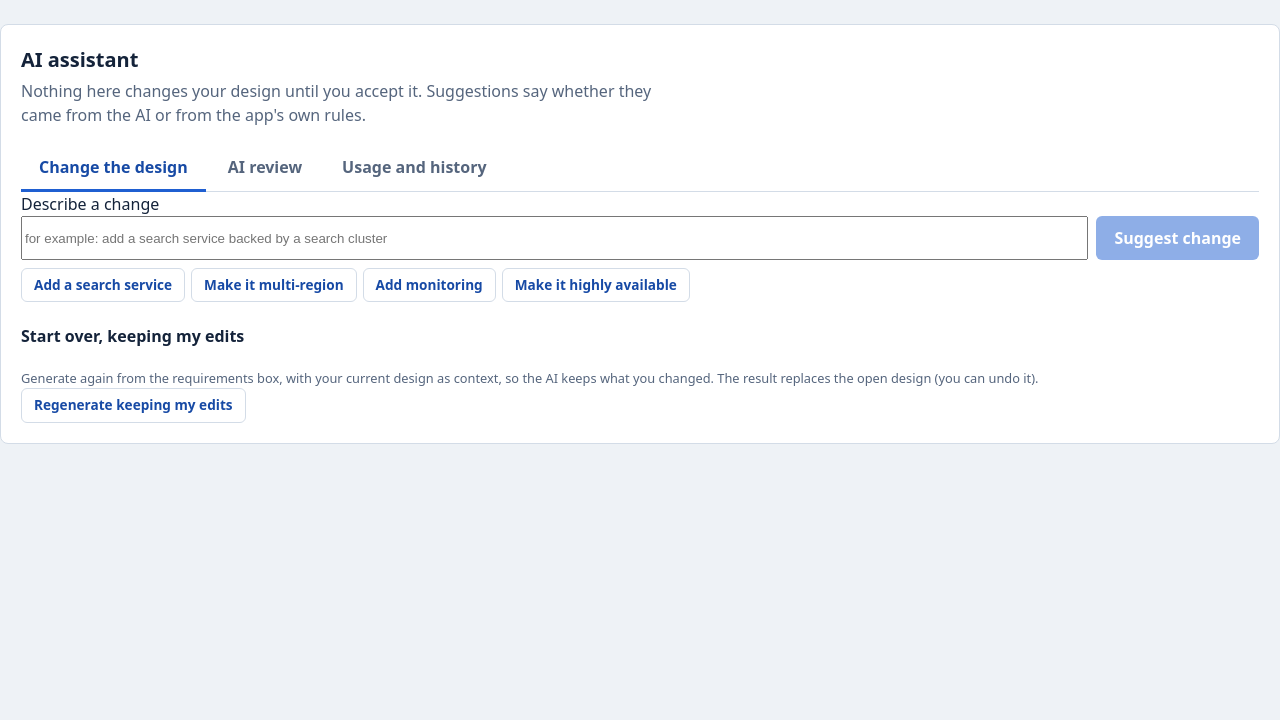
Test case: AI assistant: change the design › says so when nothing can be changed, and labels rule-based answers
Type "bake a cake" into the field labelled "Describe a change" at point(555, 238), box [21, 216, 1088, 260]
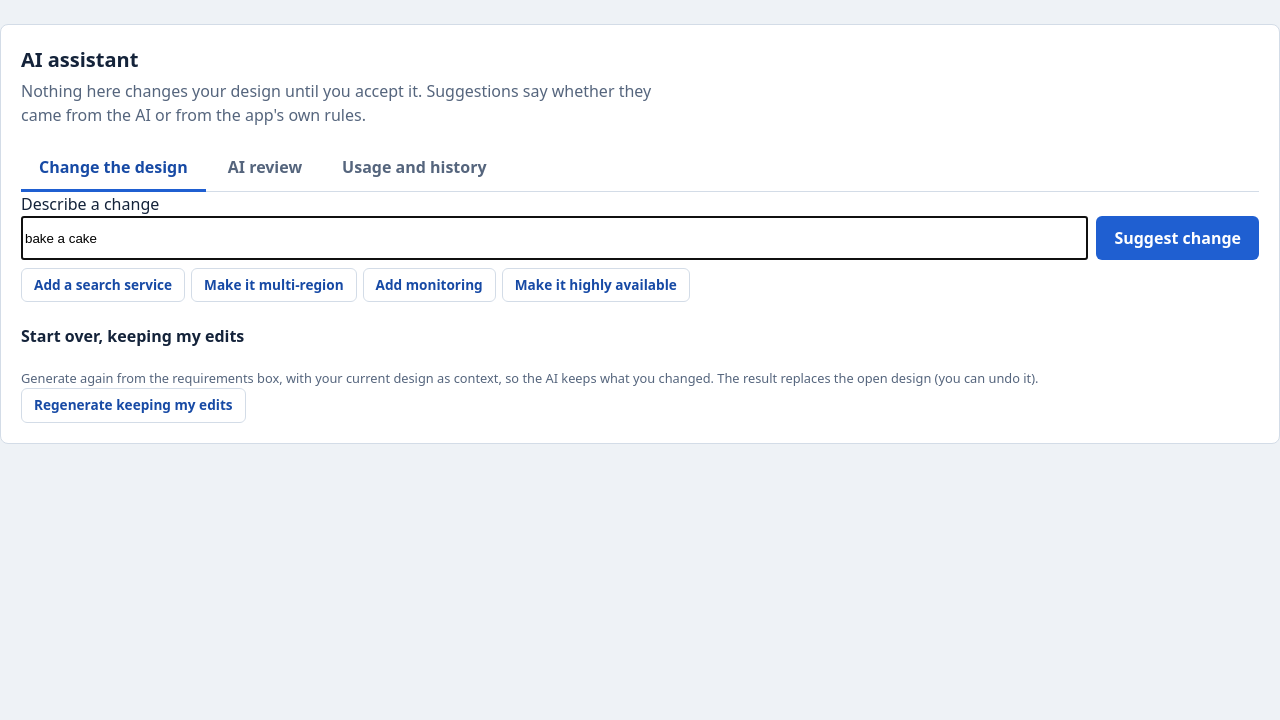
Click the button "Suggest change" at point(1178, 238), box [1096, 216, 1259, 260]
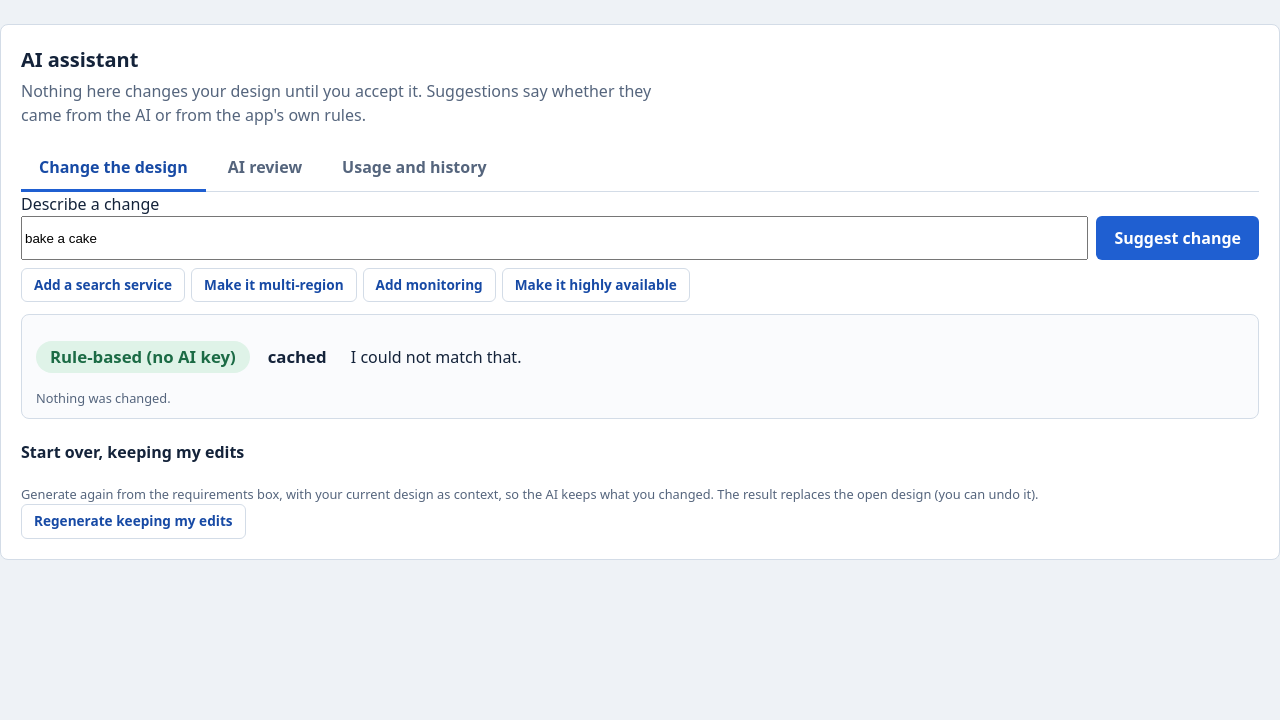
Result: the text "Nothing was changed." is shown at [36, 389, 171, 407]
Result: the text "Rule-based (no AI key)" is shown at [36, 341, 250, 373]
Result: the text "cached" is shown at [268, 345, 327, 368]
